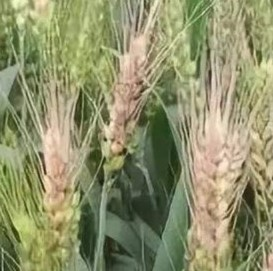Wheat scab: (100, 39, 155, 178)
